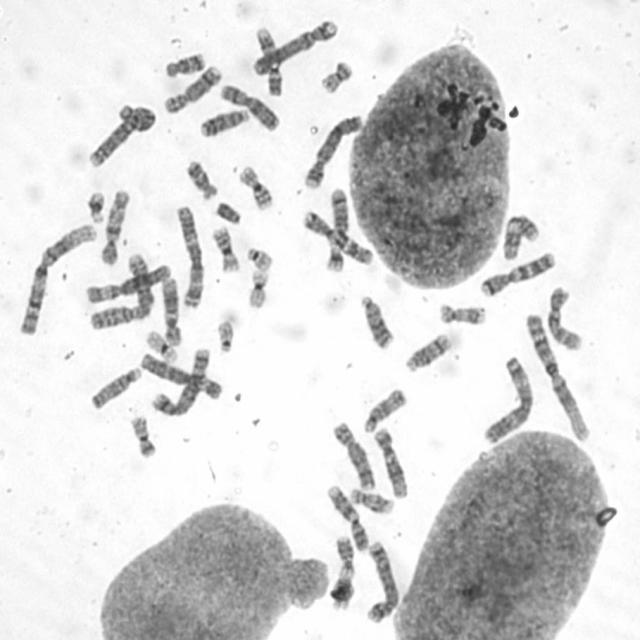A1: (19, 223, 100, 338), (526, 310, 592, 441)
A2: (88, 253, 155, 332), (88, 104, 156, 170)
A3: (484, 354, 533, 448), (174, 206, 205, 309)
B4: (251, 21, 340, 77), (302, 113, 364, 191)
B5: (149, 348, 211, 418), (364, 540, 401, 624)
C10: (544, 285, 583, 351), (99, 188, 131, 267)
C11: (330, 536, 356, 610), (500, 213, 540, 261)
C12: (373, 428, 409, 499), (158, 276, 184, 346)
C6: (139, 351, 224, 401), (84, 263, 172, 304)
C7: (302, 210, 375, 265), (480, 251, 556, 298)
C8: (162, 65, 222, 116), (333, 423, 375, 488)
C9: (326, 486, 369, 554), (254, 27, 285, 98)
D13: (357, 293, 395, 351), (199, 109, 251, 139)
D14: (405, 333, 454, 373), (329, 188, 349, 243)
D15: (91, 366, 143, 412), (362, 388, 408, 434)
E16: (236, 164, 274, 211), (211, 224, 240, 274)
E17: (348, 488, 396, 517), (438, 302, 488, 326)
E18: (184, 160, 218, 201), (163, 51, 208, 77)
F19: (143, 328, 179, 364), (247, 269, 270, 309)
F20: (128, 412, 159, 462), (319, 60, 356, 94)
G21: (85, 189, 107, 225), (324, 242, 346, 274)
G22: (245, 246, 275, 272), (214, 321, 236, 353)
X: (218, 84, 282, 132)
Y: (216, 200, 242, 225)
